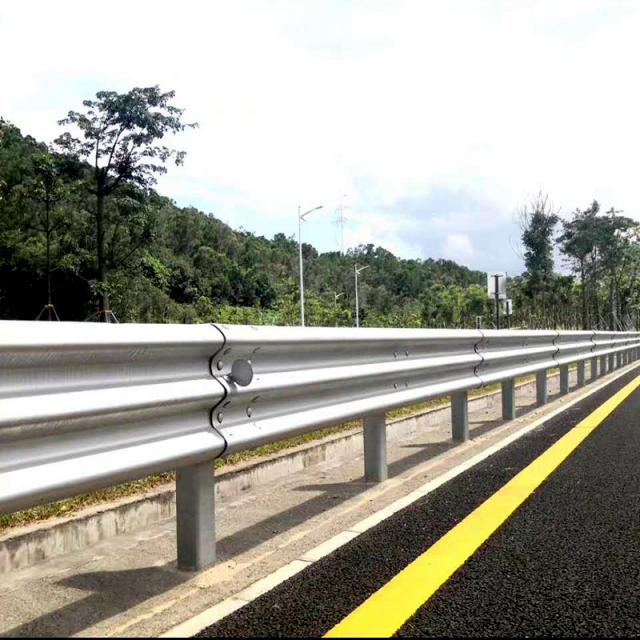Guard rail: (0, 321, 640, 569)
